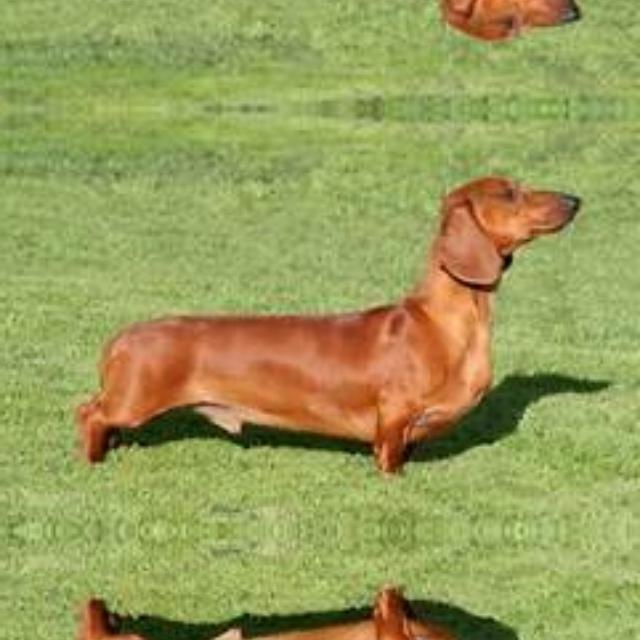dog: (50, 169, 582, 513), (50, 548, 582, 640), (50, 0, 582, 47)
